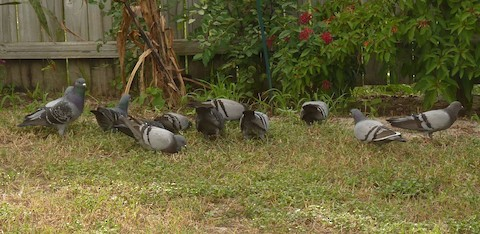pigeon: (17, 77, 94, 141), (387, 93, 467, 144), (116, 113, 192, 158), (347, 104, 408, 147), (235, 104, 279, 148), (90, 89, 134, 133), (148, 102, 198, 136), (192, 103, 232, 142), (299, 97, 331, 128)
